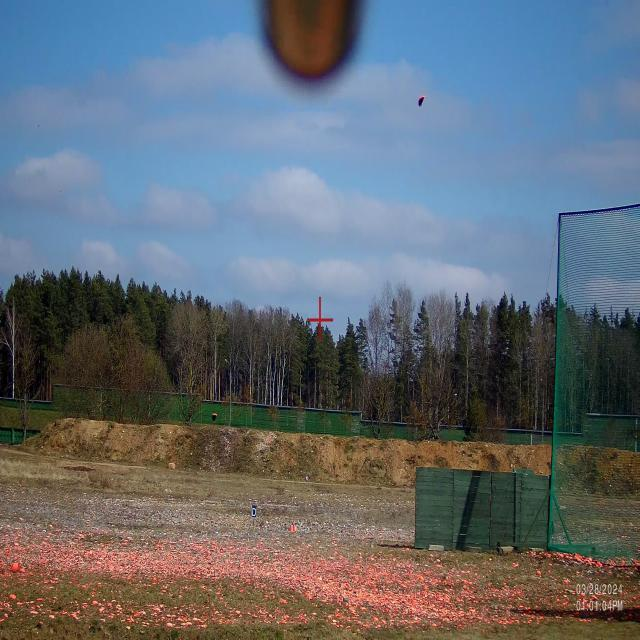broken: (210, 77, 438, 485)
